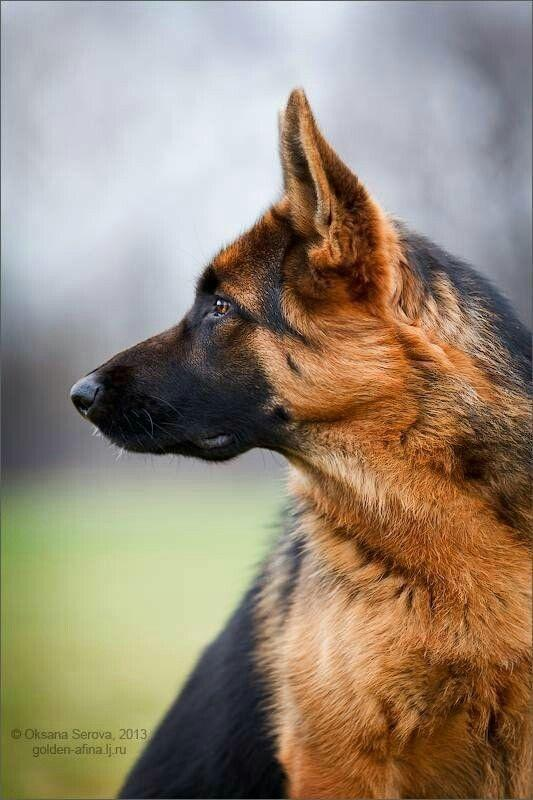adult_dog: (69, 90, 533, 800)
